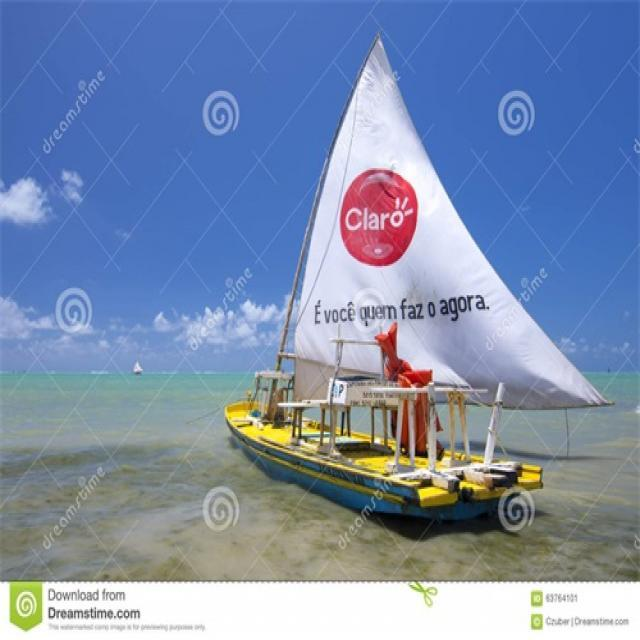Ship: (225, 34, 614, 542)
